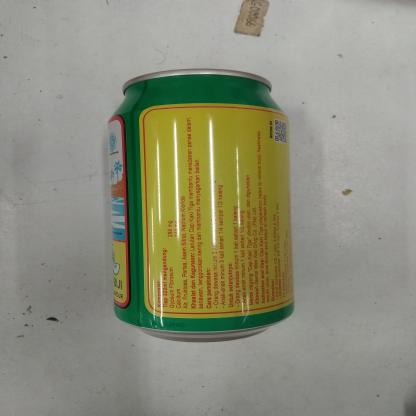can: (100, 66, 296, 347)
